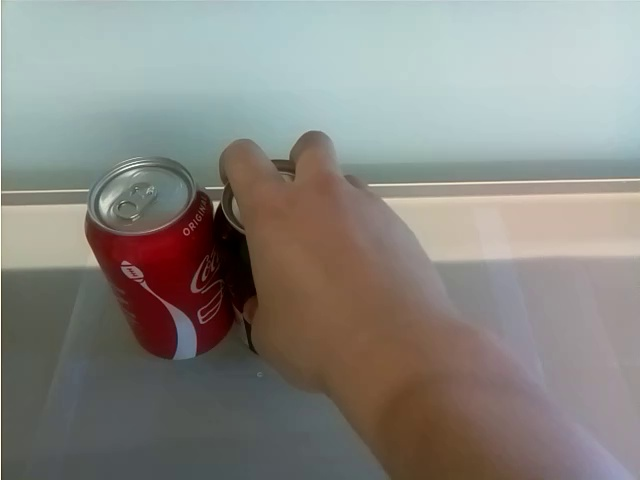cocacola: (81, 155, 230, 365)
hand: (215, 134, 462, 388)
